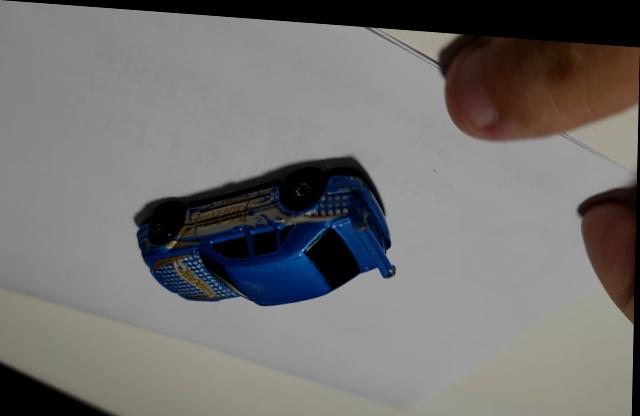04_MERZEDES: (135, 149, 398, 302)
